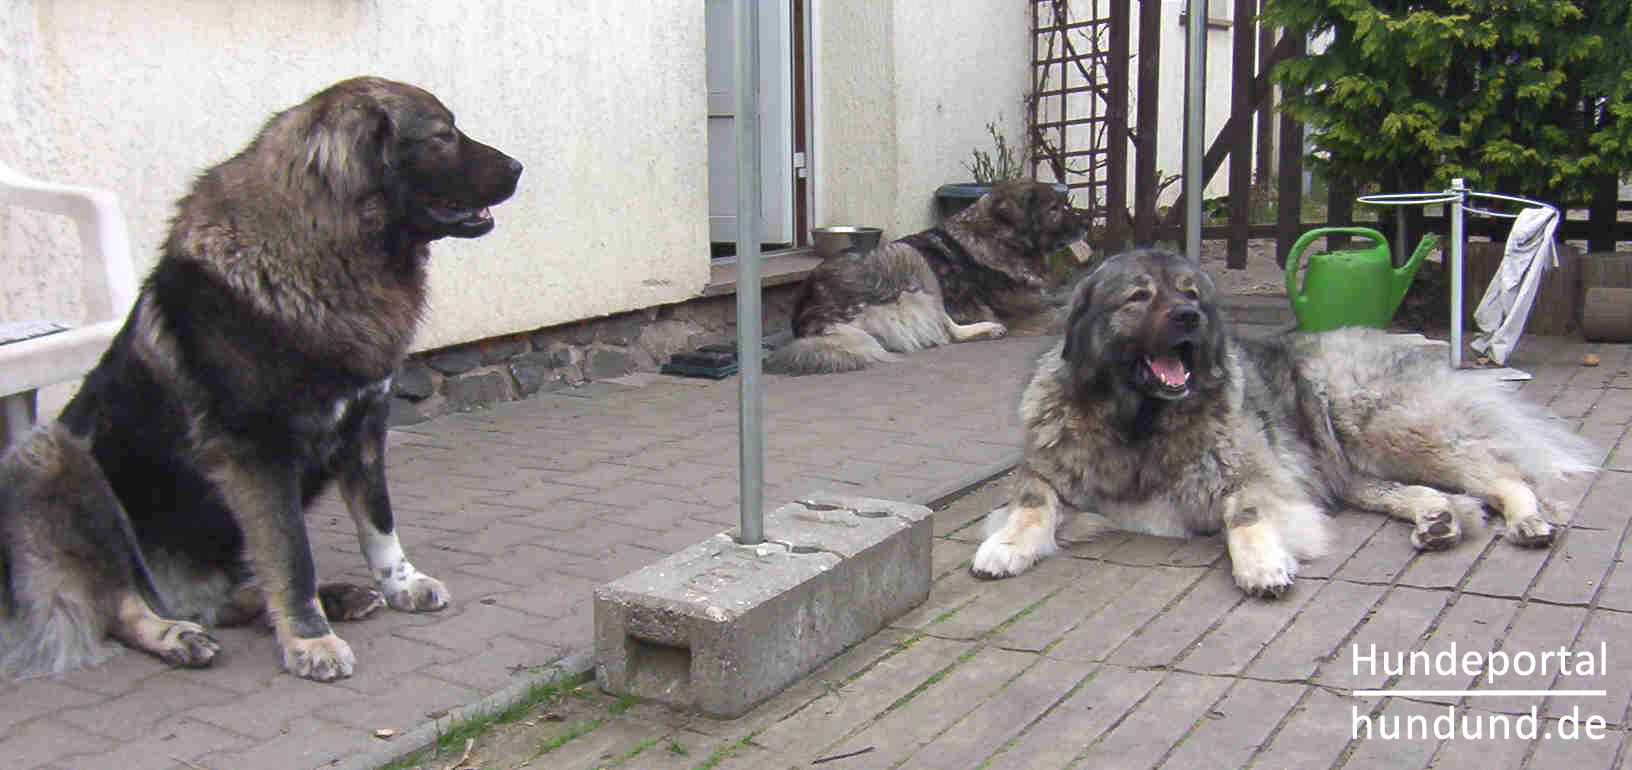cau_ovcharka: (2, 75, 526, 684), (966, 245, 1596, 600), (770, 181, 1092, 373)
